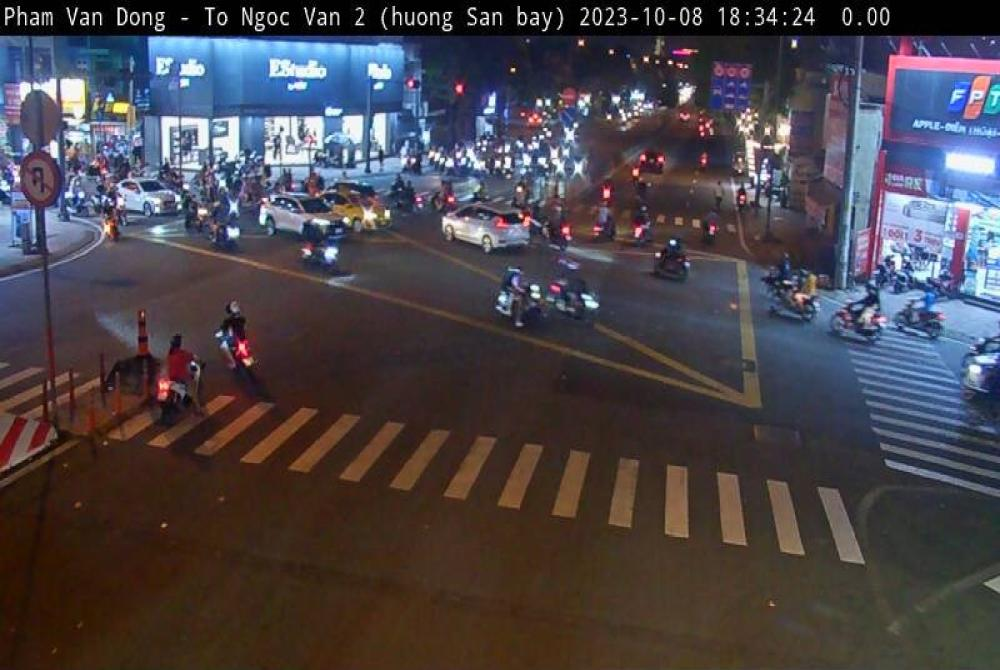car: (433, 197, 531, 258), (250, 188, 340, 250), (320, 182, 390, 250)
